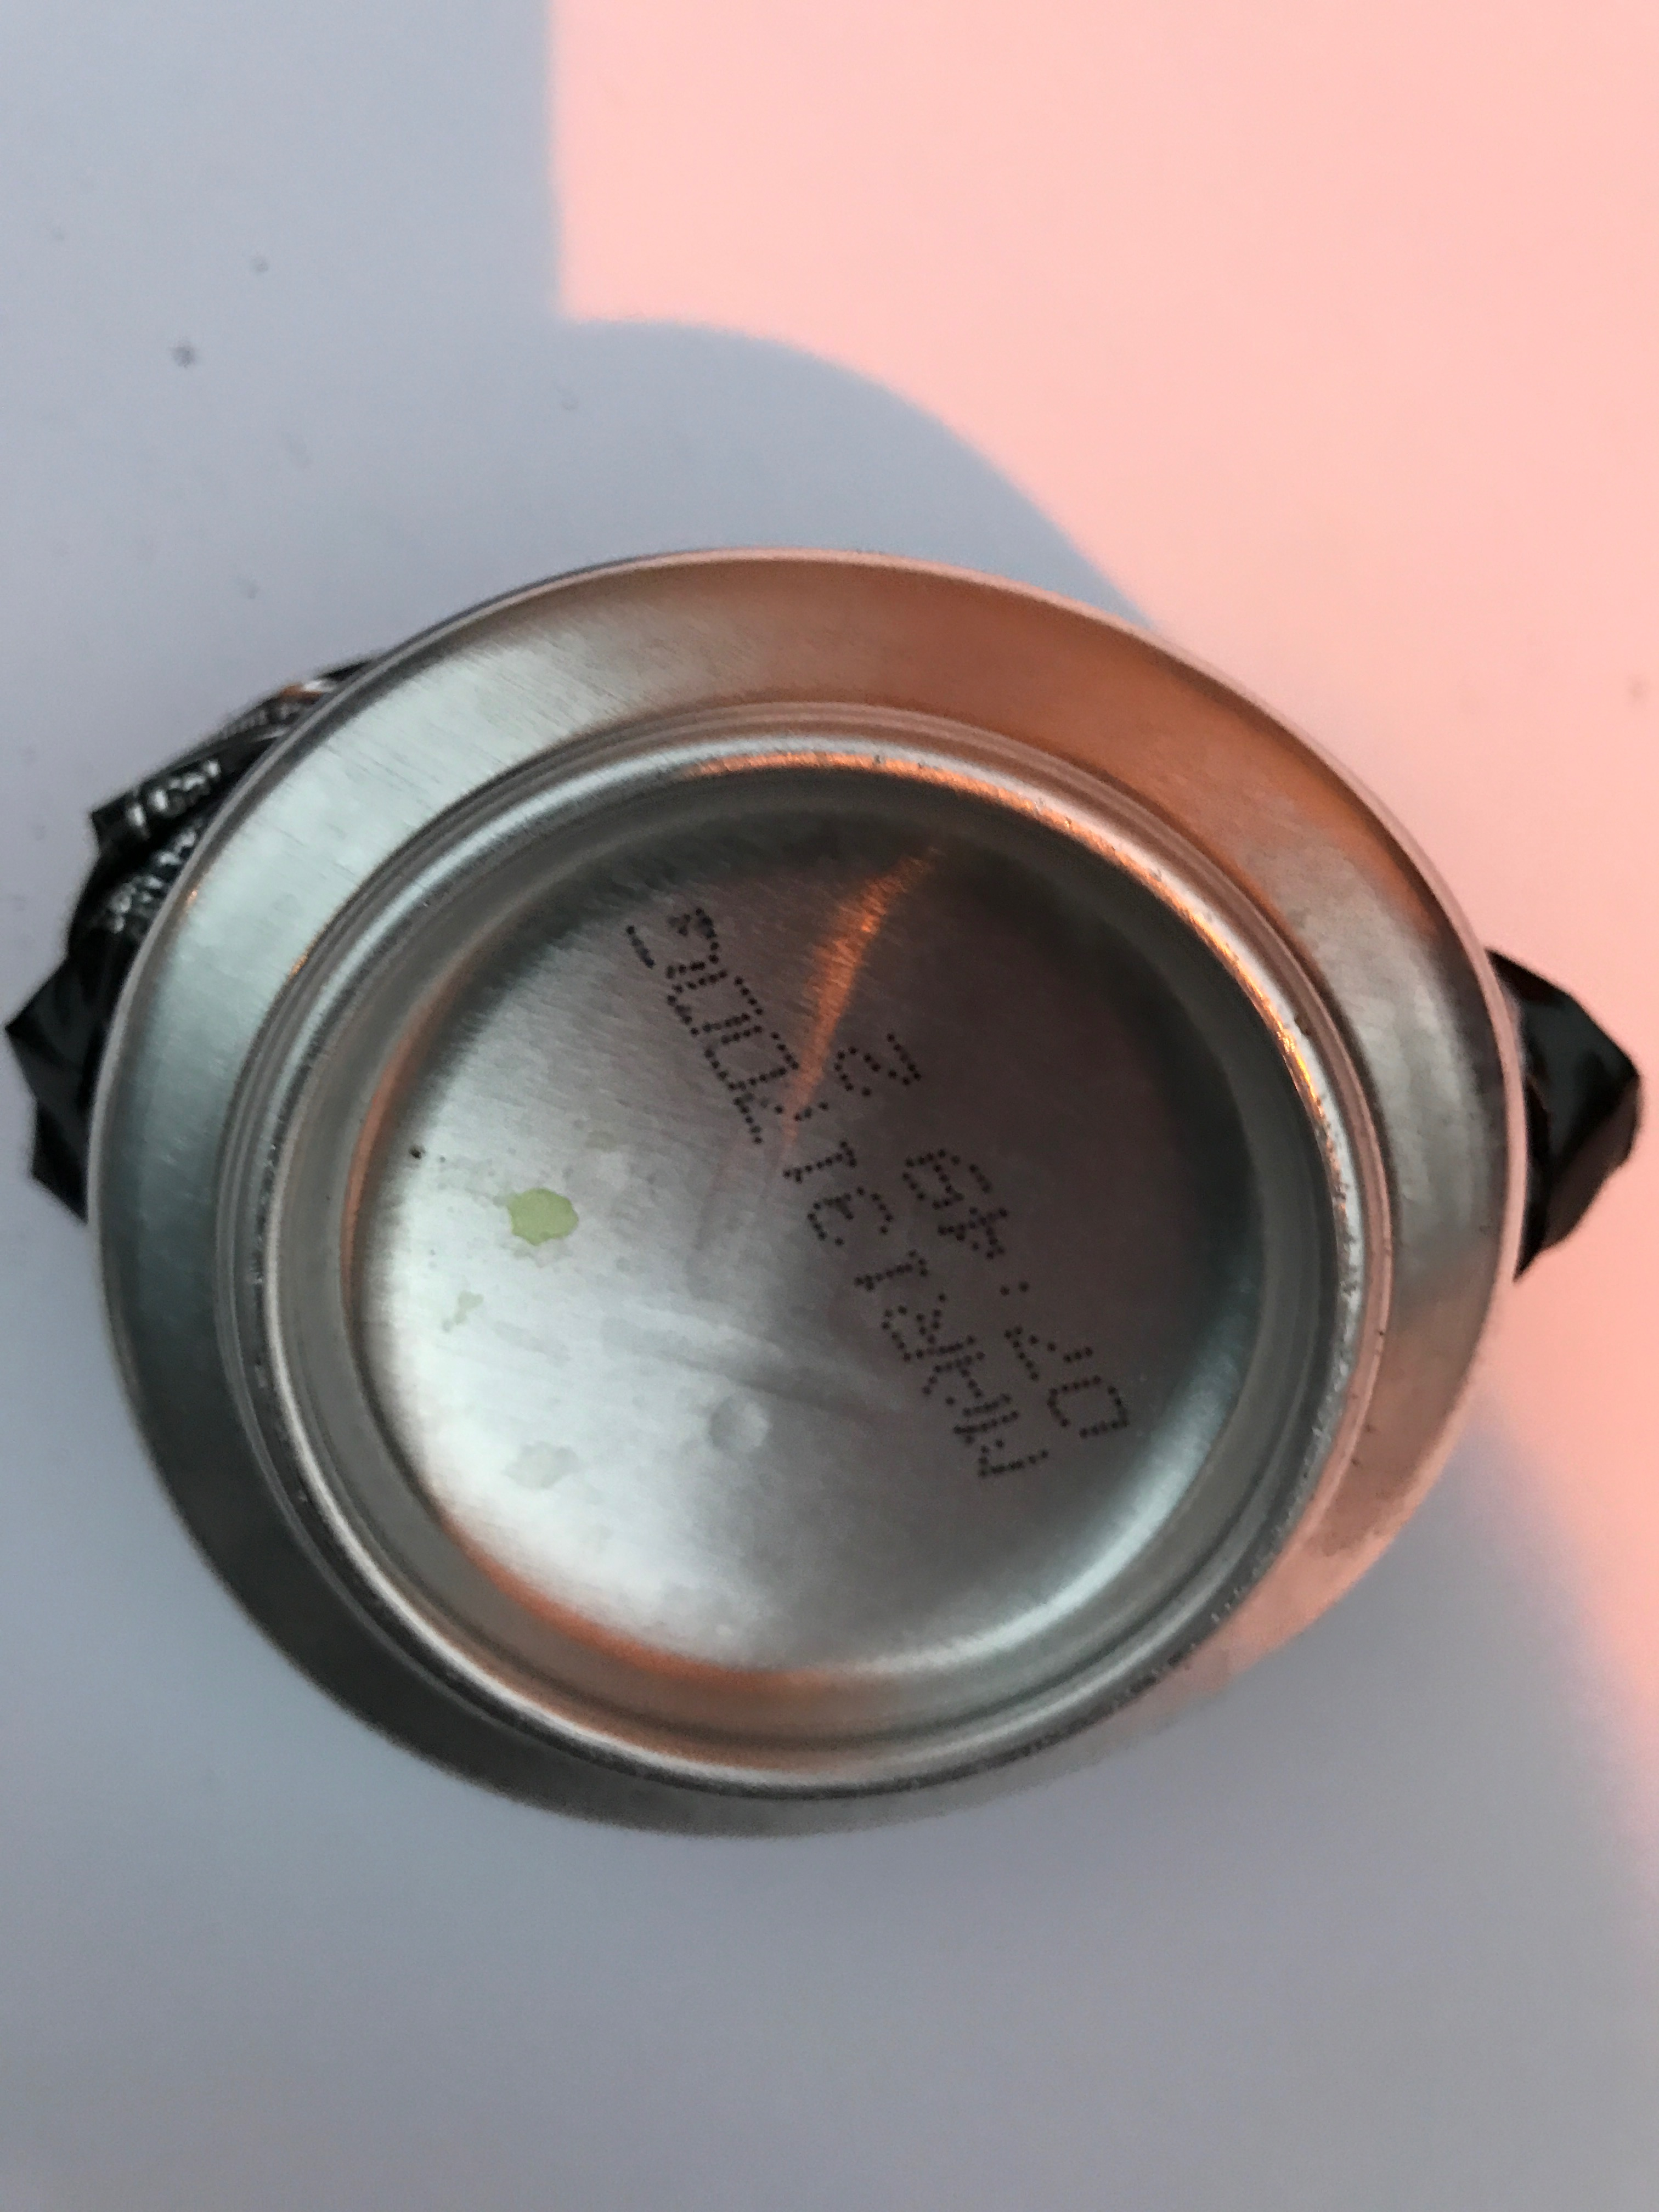metal: (3, 510, 1659, 1867)
